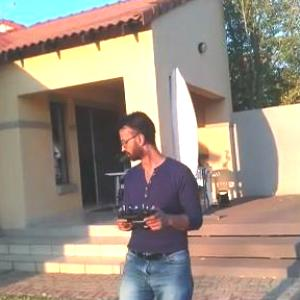follow: (110, 108, 204, 299)
